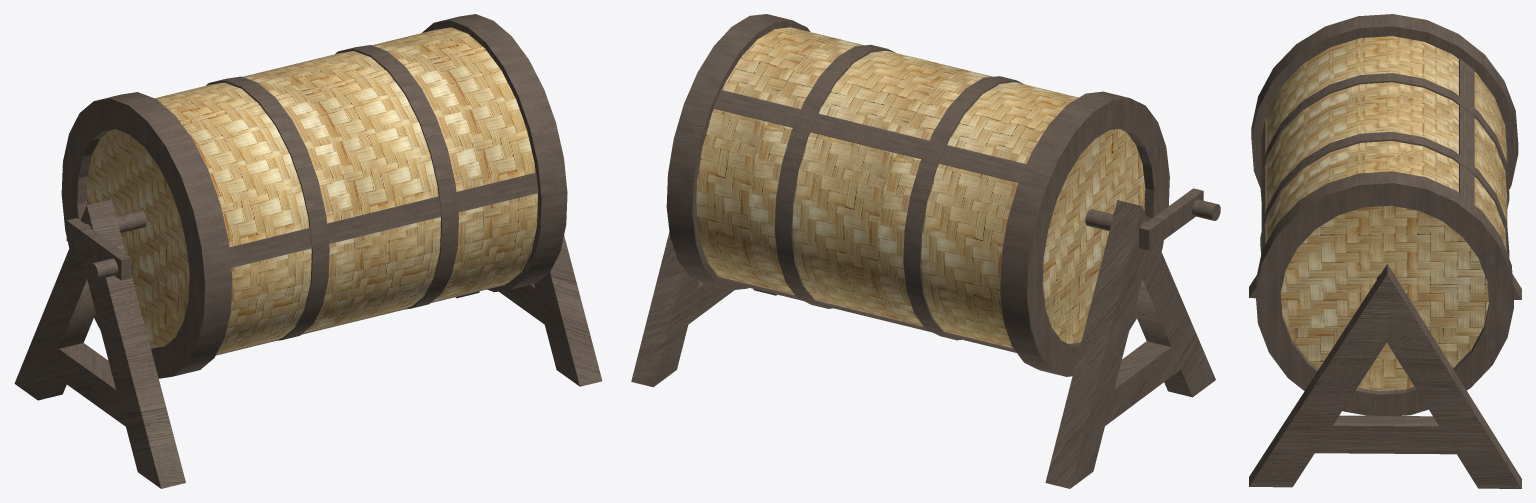
Rendered from DJguntong.fbx.
3 renders of one model, left to right at view 1: azimuth 30°, elevation 25°; view 2: azimuth 150°, elevation 25°; view 3: azimuth 270°, elevation 25°, orthographic. The views are drawn at different scales.
Visible parts, largest first — view 1: Obj3d66-19758678-5-72, Obj3d66-19758678-9-420, Obj3d66-19758678-1-938, Obj3d66-19758678-2-746, Obj3d66-19758678-3-399, Obj3d66-19758678-11-754, Obj3d66-19758678-6-742, Obj3d66-19758678-14-541, Obj3d66-19758678-15-644, Obj3d66-19758678-8-932, Obj3d66-19758678-7-175; view 2: Obj3d66-19758678-5-72, Obj3d66-19758678-9-420, Obj3d66-19758678-1-938, Obj3d66-19758678-2-746, Obj3d66-19758678-3-399, Obj3d66-19758678-6-742, Obj3d66-19758678-10-731, Obj3d66-19758678-14-541, Obj3d66-19758678-15-644, Obj3d66-19758678-8-932, Obj3d66-19758678-12-556, Obj3d66-19758678-7-175; view 3: Obj3d66-19758678-5-72, Obj3d66-19758678-6-742, Obj3d66-19758678-4-447, Obj3d66-19758678-3-399, Obj3d66-19758678-1-938, Obj3d66-19758678-14-541, Obj3d66-19758678-15-644, Obj3d66-19758678-10-731, Obj3d66-19758678-11-754.
Part boxes in pixels (x1,y1,x2,y2): Obj3d66-19758678-5-72: (155, 27, 537, 353); Obj3d66-19758678-9-420: (14, 199, 185, 488); Obj3d66-19758678-1-938: (61, 92, 232, 378); Obj3d66-19758678-2-746: (86, 129, 189, 346); Obj3d66-19758678-3-399: (422, 14, 567, 292); Obj3d66-19758678-11-754: (229, 172, 538, 267); Obj3d66-19758678-6-742: (455, 235, 602, 386); Obj3d66-19758678-14-541: (206, 76, 329, 340); Obj3d66-19758678-15-644: (335, 45, 458, 309); Obj3d66-19758678-8-932: (66, 218, 131, 280); Obj3d66-19758678-7-175: (86, 210, 146, 279); Obj3d66-19758678-5-72: (696, 27, 1078, 348); Obj3d66-19758678-9-420: (1045, 200, 1215, 488); Obj3d66-19758678-1-938: (1000, 91, 1169, 376); Obj3d66-19758678-2-746: (1042, 129, 1145, 343); Obj3d66-19758678-3-399: (666, 14, 810, 290); Obj3d66-19758678-6-742: (631, 232, 776, 387); Obj3d66-19758678-10-731: (713, 90, 1026, 182); Obj3d66-19758678-14-541: (903, 76, 1023, 340); Obj3d66-19758678-15-644: (774, 44, 895, 308); Obj3d66-19758678-8-932: (1139, 188, 1203, 250); Obj3d66-19758678-12-556: (718, 276, 1016, 352); Obj3d66-19758678-7-175: (1085, 199, 1220, 230); Obj3d66-19758678-5-72: (1266, 36, 1507, 251); Obj3d66-19758678-6-742: (1249, 264, 1521, 488); Obj3d66-19758678-4-447: (1280, 205, 1488, 391); Obj3d66-19758678-3-399: (1255, 171, 1513, 415); Obj3d66-19758678-1-938: (1251, 14, 1518, 189); Obj3d66-19758678-14-541: (1260, 73, 1509, 208); Obj3d66-19758678-15-644: (1260, 131, 1509, 257); Obj3d66-19758678-10-731: (1459, 59, 1474, 204); Obj3d66-19758678-11-754: (1261, 119, 1266, 251).
Size of the model in its own units: 71.11 by 45.45 by 38.04.
Materials: 3 (3 with a texture image).
